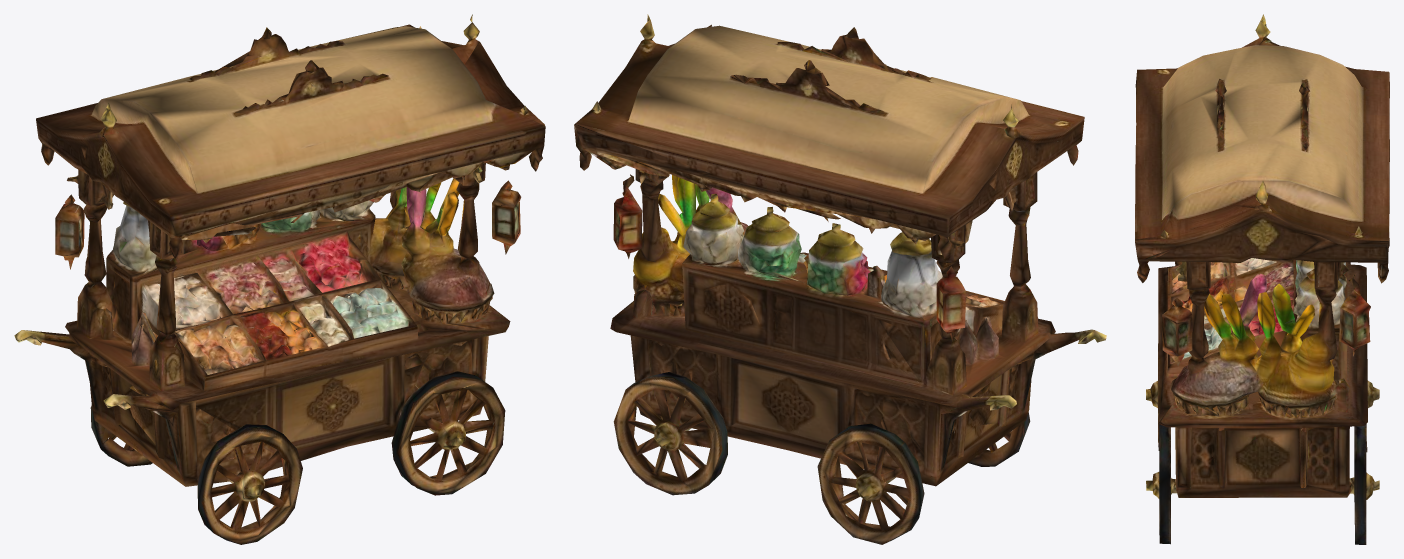
Rendered from kit_mardin_sweets_cart.glb.
3 views of the same model, side by side, from view 1: azimuth 30°, elevation 25°; view 2: azimuth 150°, elevation 25°; view 3: azimuth 270°, elevation 25° (orthographic). The views are drawn at different scales.
Parts seen in each view (by area): view 1: Mesh1.0; view 2: Mesh1.0; view 3: Mesh1.0.
Part boxes in pixels (<box>): Mesh1.0: <box>14,14,545,544</box>; Mesh1.0: <box>574,14,1106,544</box>; Mesh1.0: <box>1135,14,1389,544</box>.
Size of the model in its own units: 1.91 by 1.9 by 1.08.
1 material, 1 textured.
